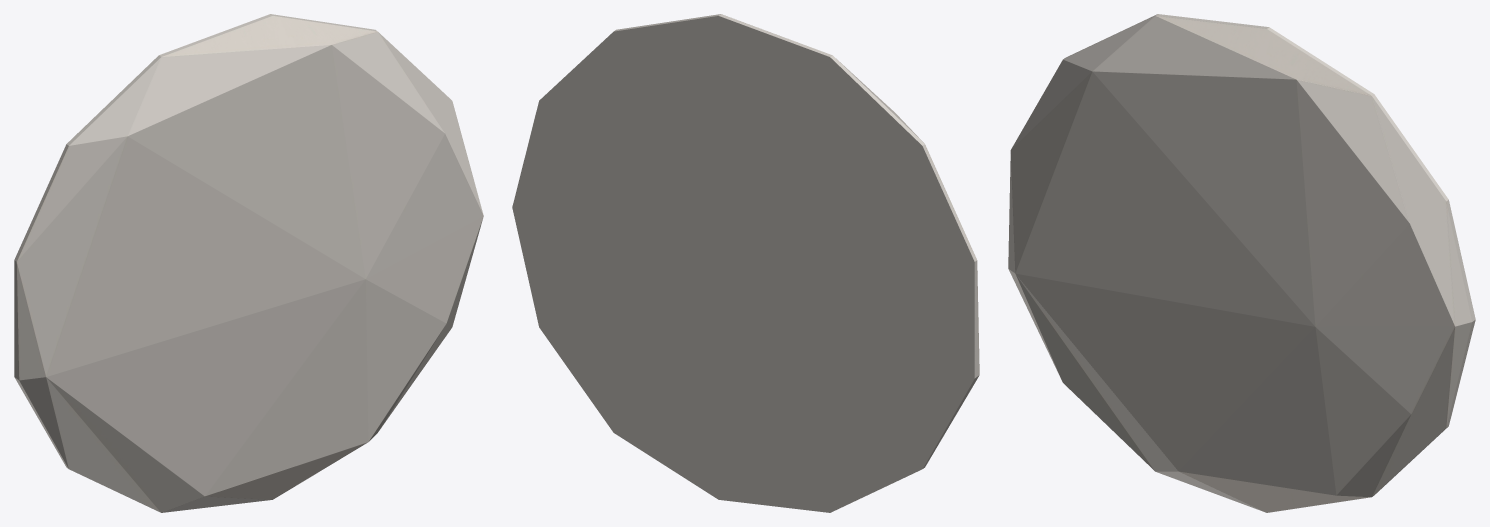
Rendered from platinium.gltf.
3 views of the same model, side by side, from view 1: azimuth 30°, elevation 25°; view 2: azimuth 150°, elevation 25°; view 3: azimuth 330°, elevation 25° (orthographic).
Visible parts, largest first — view 1: coin_new_design; view 2: coin_new_design; view 3: coin_new_design.
Boxes of the visible parts, left/top/right/bottom form: coin_new_design: left=14, top=14, right=483, bottom=512; coin_new_design: left=512, top=14, right=979, bottom=512; coin_new_design: left=1008, top=14, right=1475, bottom=512.
Size of the model in its own units: 3.9 by 3.9 by 0.36.
Materials: 1 (1 with a texture image).
